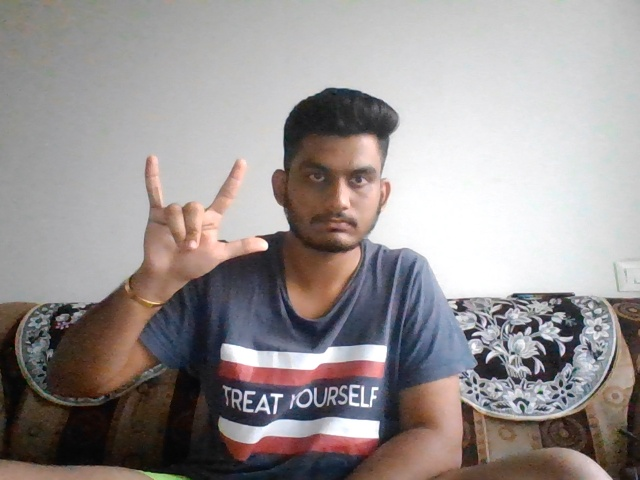I Love You: (115, 159, 269, 296)
